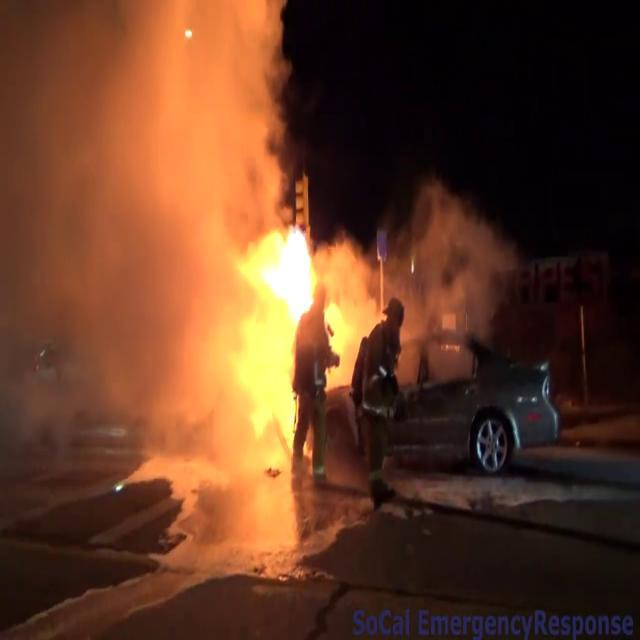Fire: (216, 214, 346, 488)
Smoke: (0, 0, 273, 441)
